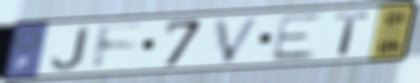7: (162, 18, 205, 69)
E: (267, 12, 324, 63)
F: (91, 21, 148, 72)
J: (49, 26, 91, 72)
T: (332, 11, 372, 57)
V: (212, 15, 264, 65)
